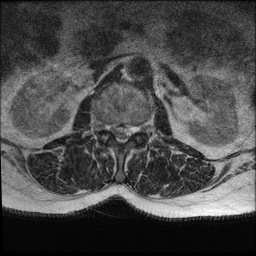CCS_normal: (118, 118, 125, 150)
LFS_normal: (132, 117, 142, 141)
LLS_normal: (125, 118, 132, 148)
RFS_stenosis: (102, 114, 110, 139)
RLS_normal: (110, 116, 118, 144)
